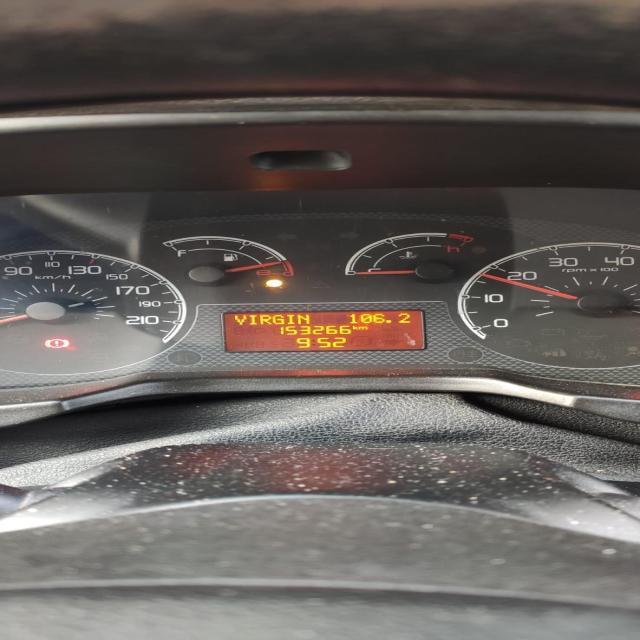odometer: (218, 310, 428, 354)
